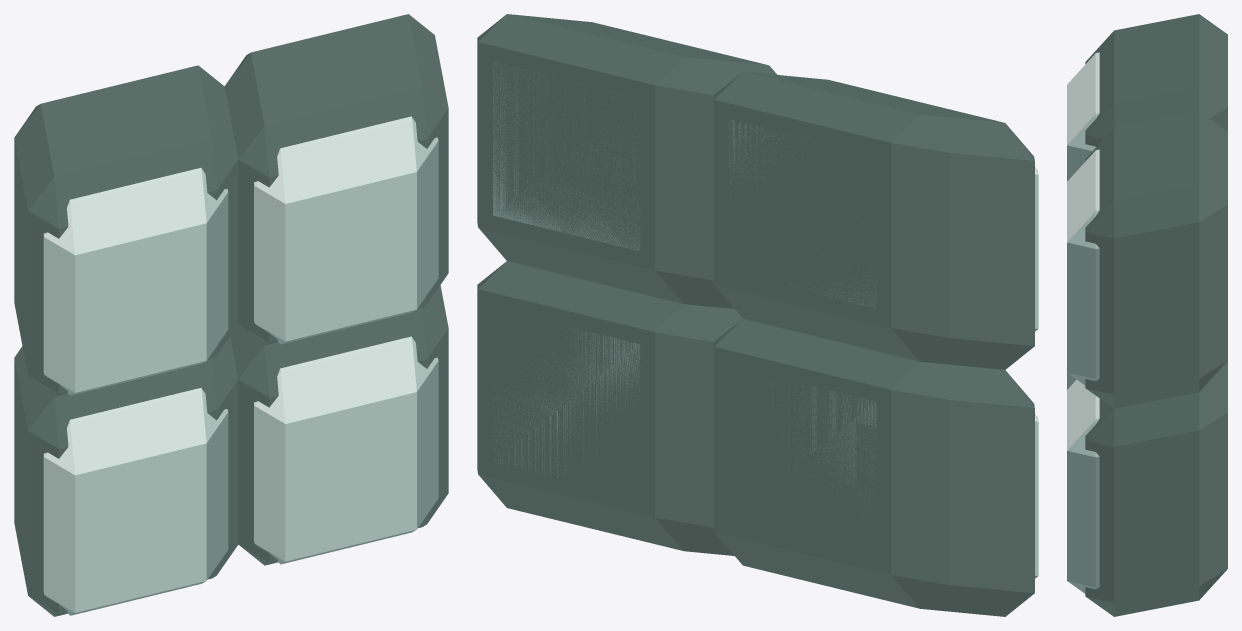
File: Terrain_Block2x2.gltf
3 renders of one model, left to right at view 1: azimuth 30°, elevation 25°; view 2: azimuth 150°, elevation 25°; view 3: azimuth 270°, elevation 25°, orthographic. The views are drawn at different scales.
Visible parts, largest first — view 1: Terrain_Block2x2_baked; view 2: Terrain_Block2x2_baked; view 3: Terrain_Block2x2_baked.
Part boxes in pixels (x1,y1,x2,y2): Terrain_Block2x2_baked: [14, 14, 448, 616]; Terrain_Block2x2_baked: [477, 14, 1038, 616]; Terrain_Block2x2_baked: [1067, 14, 1227, 616].
Size of the model in its own units: 2.15 by 2.15 by 0.7.
